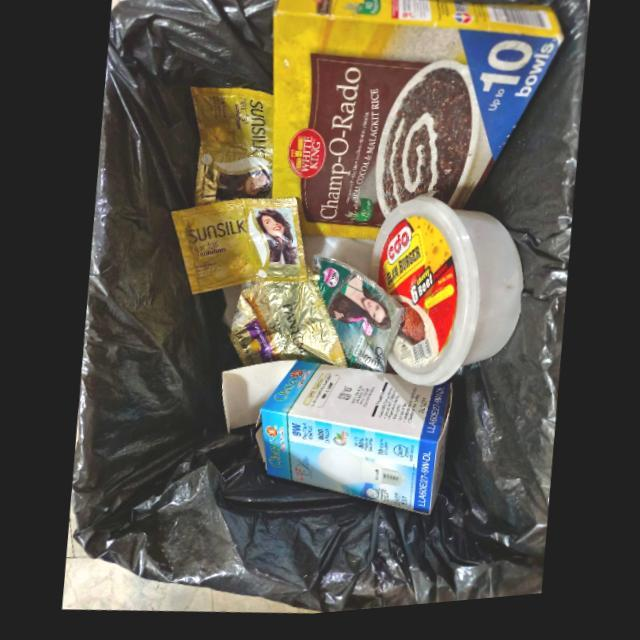paper: (270, 0, 564, 246), (220, 363, 451, 522)
plastic: (367, 201, 523, 394)
wrapper: (169, 202, 307, 297), (228, 272, 345, 372), (310, 259, 404, 379), (189, 88, 274, 209)
